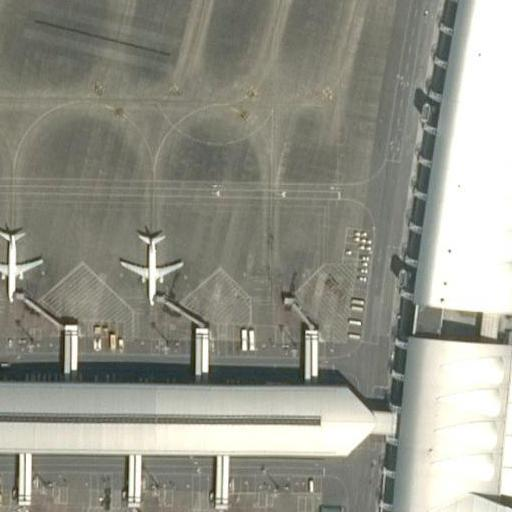Aircraft: (116, 230, 181, 301), (0, 224, 43, 300)
